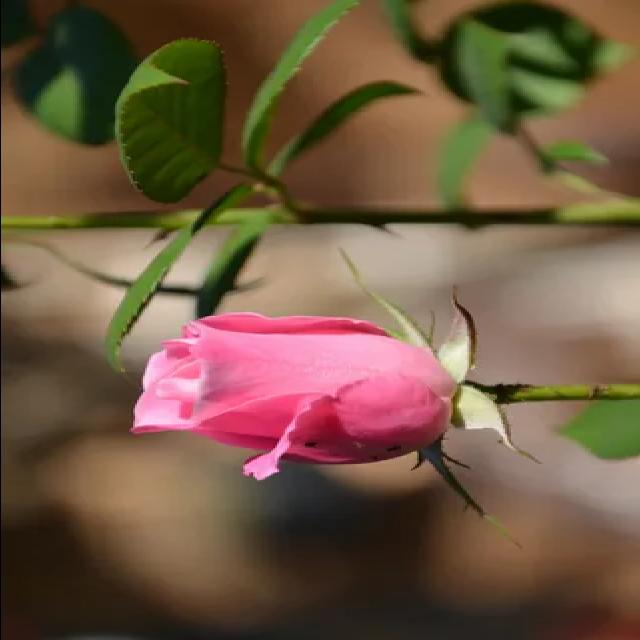rose: (98, 304, 534, 499)
